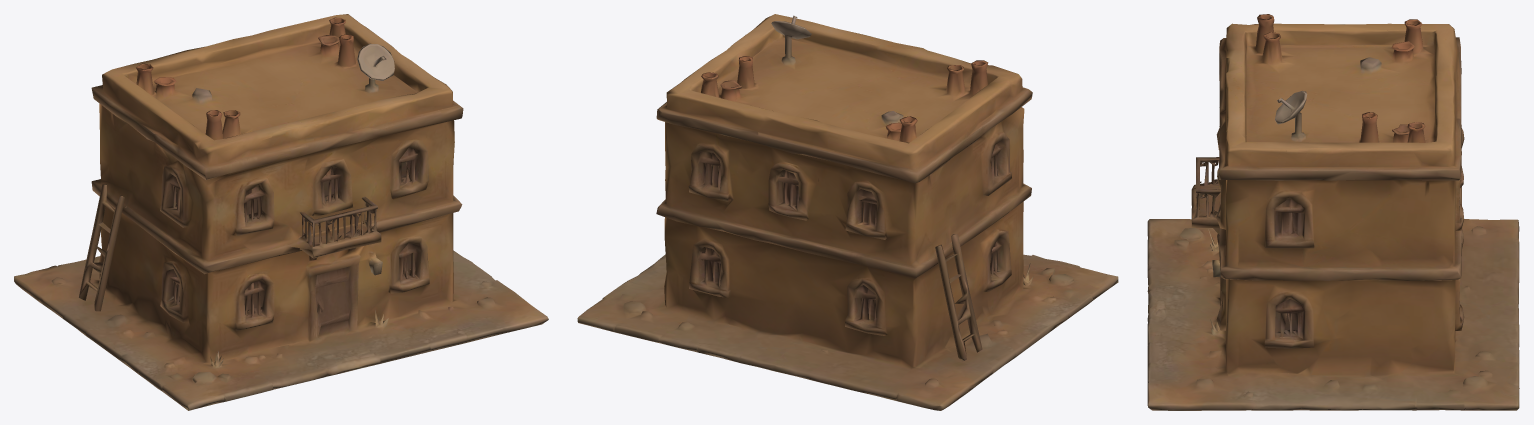
File: kano_house_b.glb
The picture shows the model from 3 angles, left to right: view 1: azimuth 30°, elevation 25°; view 2: azimuth 150°, elevation 25°; view 3: azimuth 270°, elevation 25°; orthographic projection. The views are drawn at different scales.
Parts seen in each view (by area): view 1: tripo_node_9c7cb932-f714-4a06-9feb-42960b16bd0f; view 2: tripo_node_9c7cb932-f714-4a06-9feb-42960b16bd0f; view 3: tripo_node_9c7cb932-f714-4a06-9feb-42960b16bd0f.
Part boxes in pixels (x1,y1,x2,y2): tripo_node_9c7cb932-f714-4a06-9feb-42960b16bd0f: [14, 14, 548, 410]; tripo_node_9c7cb932-f714-4a06-9feb-42960b16bd0f: [577, 14, 1118, 410]; tripo_node_9c7cb932-f714-4a06-9feb-42960b16bd0f: [1147, 14, 1519, 410].
Size of the model in its own units: 1 by 0.6596 by 0.8439.
Materials: 1 (1 with a texture image).
